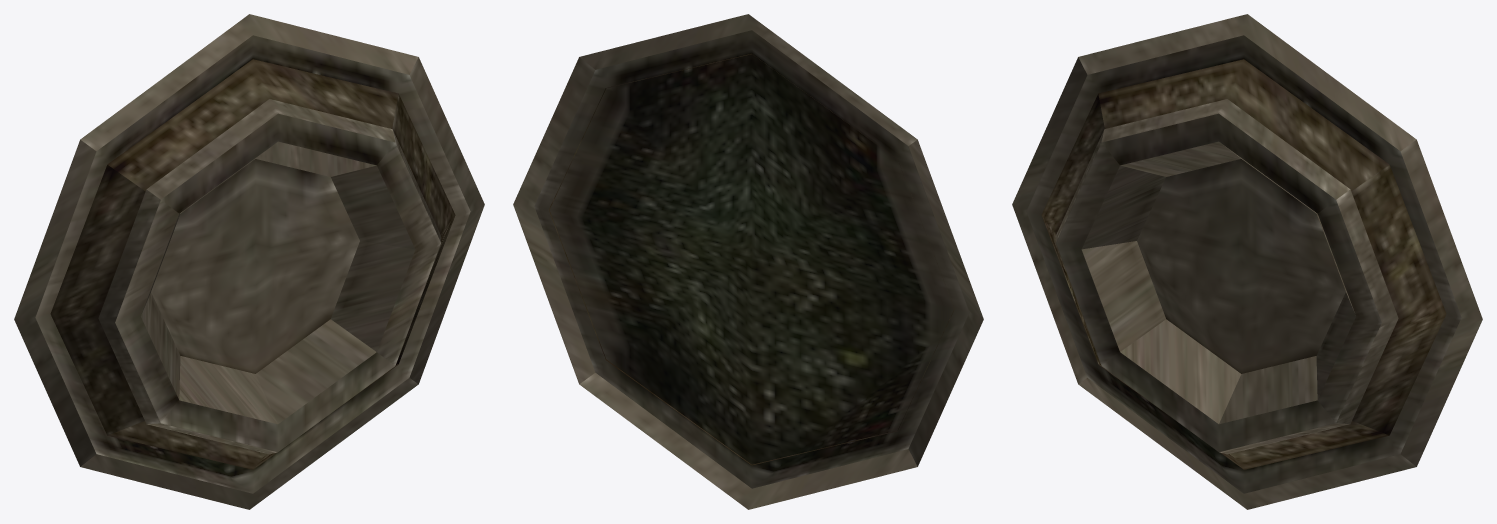
Rendered from Fort08.glb.
The picture shows the model from 3 angles, left to right: view 1: azimuth 30°, elevation 25°; view 2: azimuth 150°, elevation 25°; view 3: azimuth 330°, elevation 25°; orthographic projection.
Parts seen in each view (by area): view 1: model_Fort08; view 2: model_Fort08; view 3: model_Fort08.
Boxes of the visible parts, x1,y1,x2,y2 form: model_Fort08: [14, 14, 484, 509]; model_Fort08: [513, 14, 983, 509]; model_Fort08: [1012, 14, 1482, 509].
Bounding box in the file's own units: 3.9 × 3.93 × 0.4107.
1 material, 1 textured.
